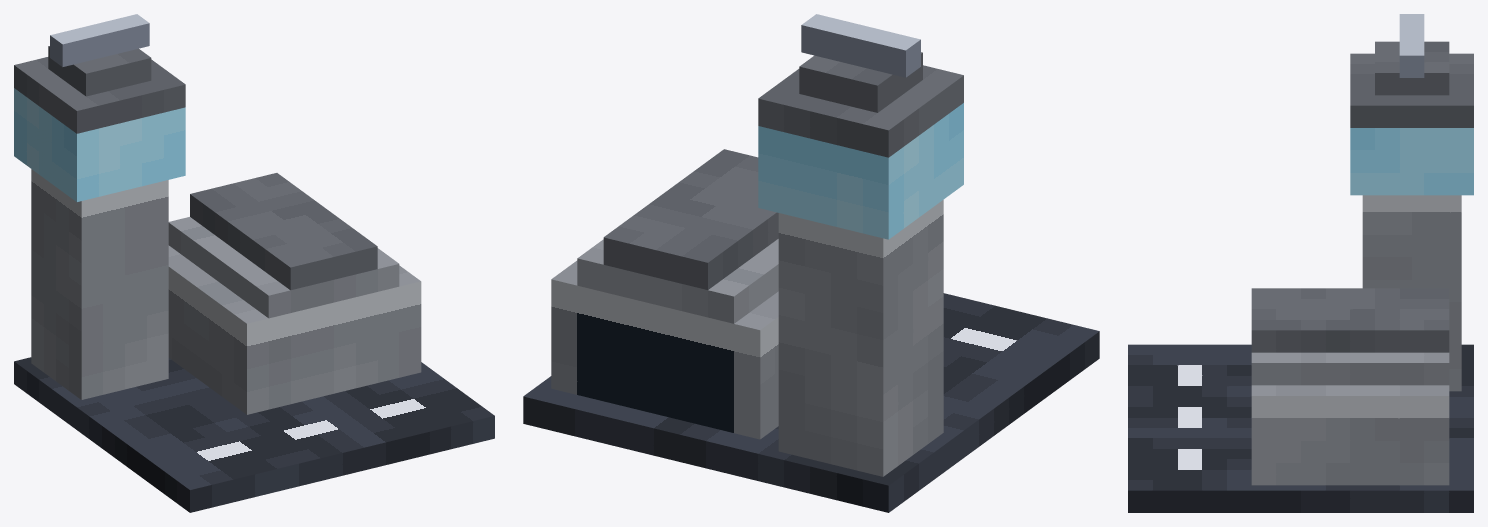
The model's file is airport_neutral.glb.
The picture shows the model from 3 angles, left to right: view 1: azimuth 30°, elevation 25°; view 2: azimuth 150°, elevation 25°; view 3: azimuth 270°, elevation 25°; orthographic projection. The views are drawn at different scales.
Parts seen in each view (by area): view 1: body, radar; view 2: body, radar; view 3: body, radar.
Part boxes in pixels (box(x1,y1,x2,y2)): body: box(14, 46, 494, 512); radar: box(50, 14, 149, 66); body: box(523, 52, 1099, 512); radar: box(801, 14, 920, 77); body: box(1128, 41, 1473, 512); radar: box(1399, 14, 1424, 77).
Bounding box in the file's own units: 0.875 × 1 × 0.875.
1 material, 1 textured.
